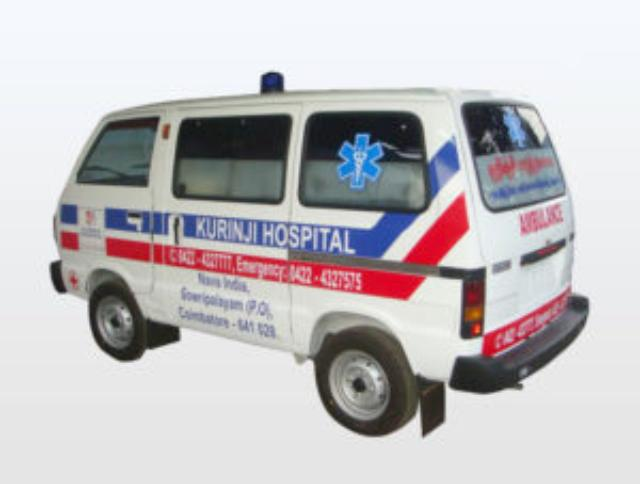ambulance: (42, 63, 620, 467)
